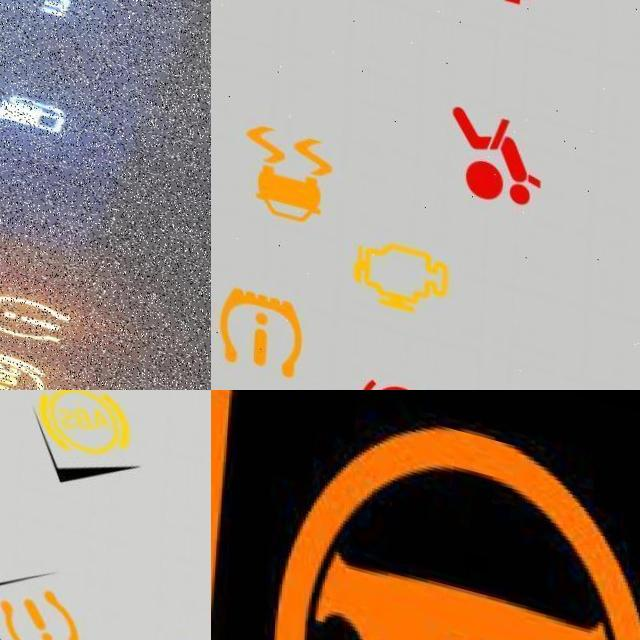Electronic Power Steering: (211, 390, 640, 640)
